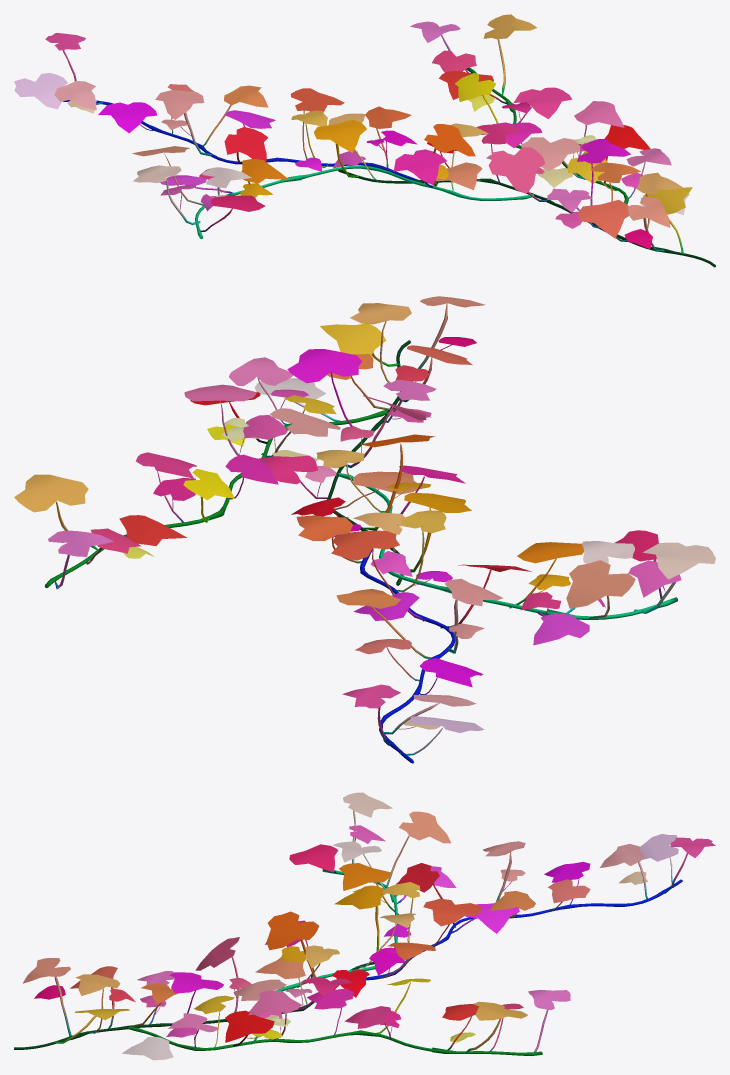
File: English_Ivy_xfcnebhqx_High_xfcnebhqx_VarE_LOD1.fbx
3 views of the same model, one above another, from view 1: azimuth 30°, elevation 25°; view 2: azimuth 150°, elevation 25°; view 3: azimuth 270°, elevation 25° (orthographic). The views are drawn at different scales.
Visible parts, largest first — view 1: _qhrx_VarE_LOD1; view 2: _qhrx_VarE_LOD1; view 3: _qhrx_VarE_LOD1.
Boxes of the visible parts, bbox=[...] form: _qhrx_VarE_LOD1: bbox=[14, 14, 715, 267]; _qhrx_VarE_LOD1: bbox=[14, 296, 715, 763]; _qhrx_VarE_LOD1: bbox=[14, 792, 715, 1060].
Size of the model in its own units: 85.15 by 11.6 by 112.
